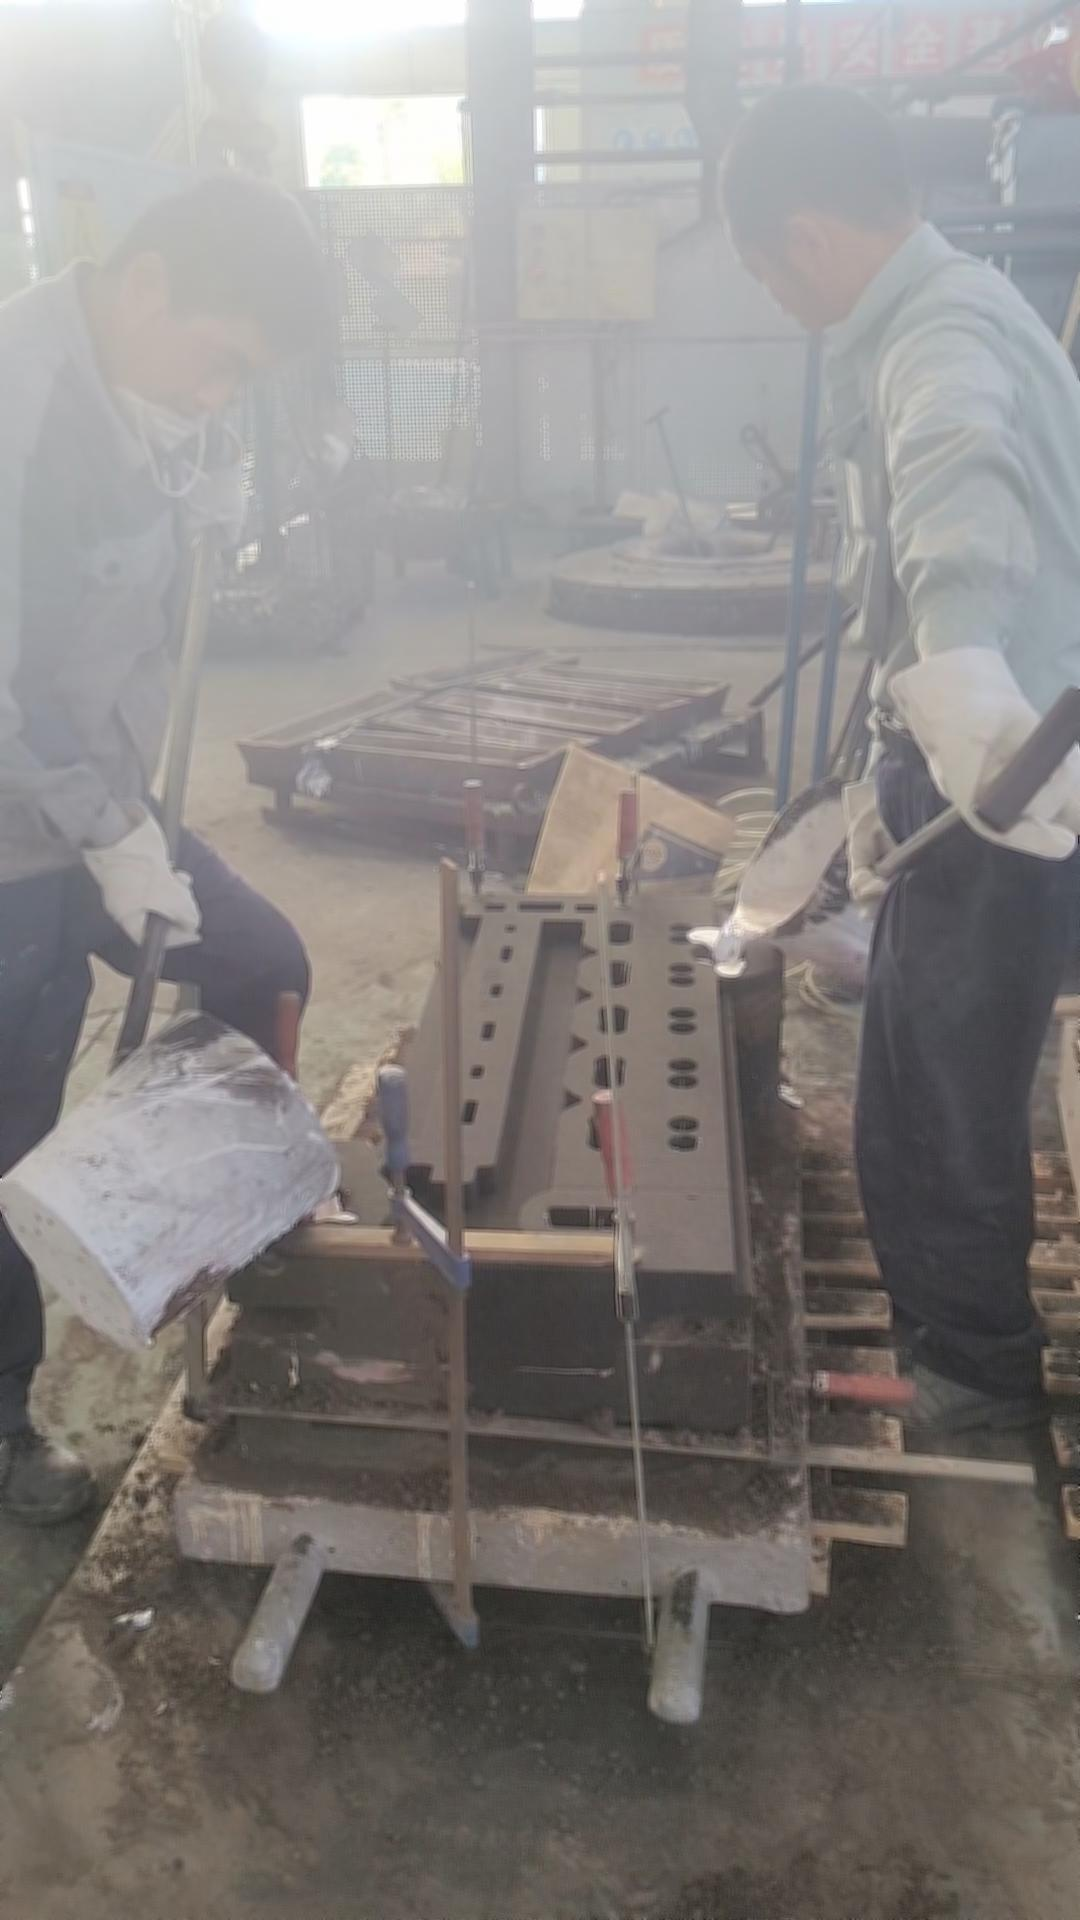pouring hole: (291, 1189, 353, 1232), (694, 942, 749, 967)
